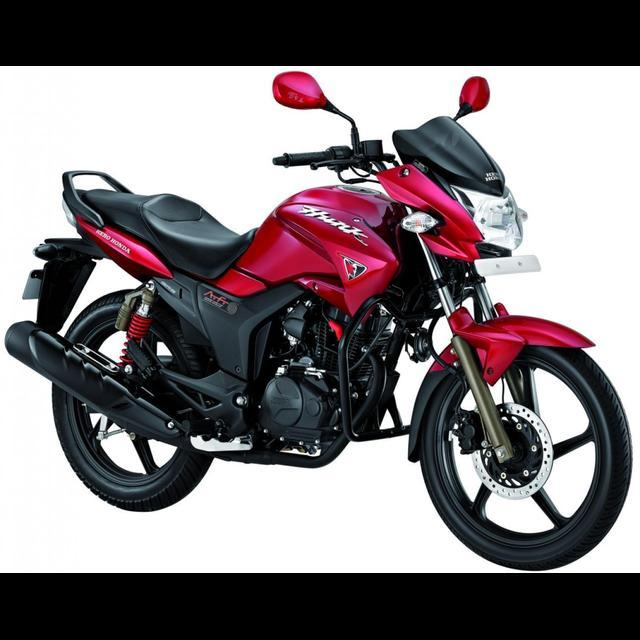motorcycle: (1, 67, 633, 575)
